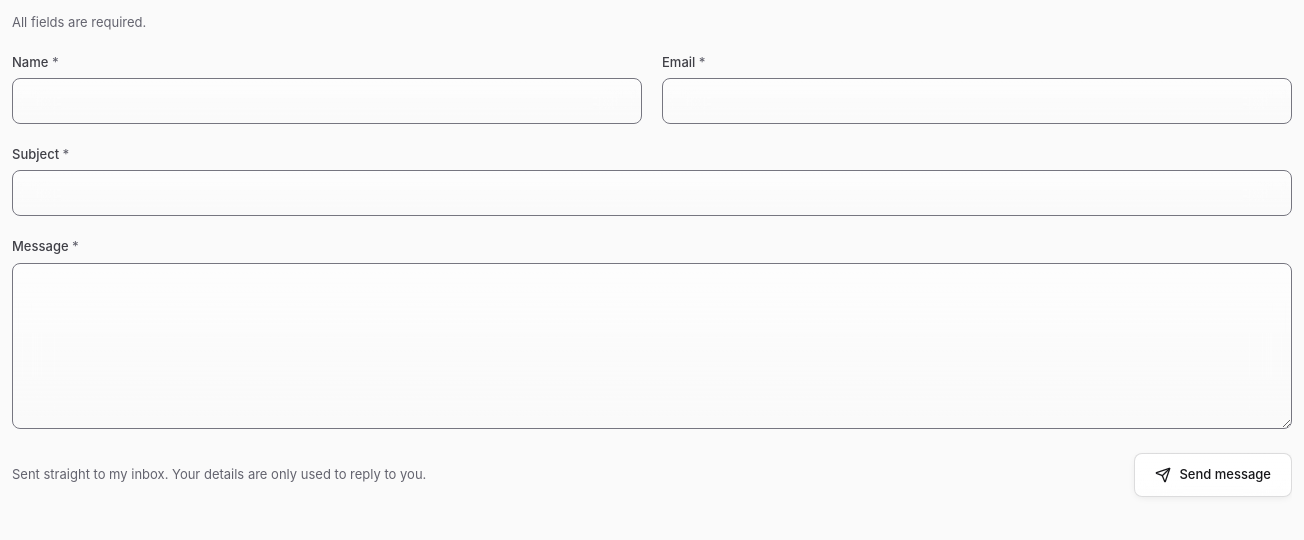
Test: ContactForm › validates email format on blur
Type "ada@" into the field labelled "Email *".
click(977, 101); type("ada@")  # box [662, 78, 1292, 124]
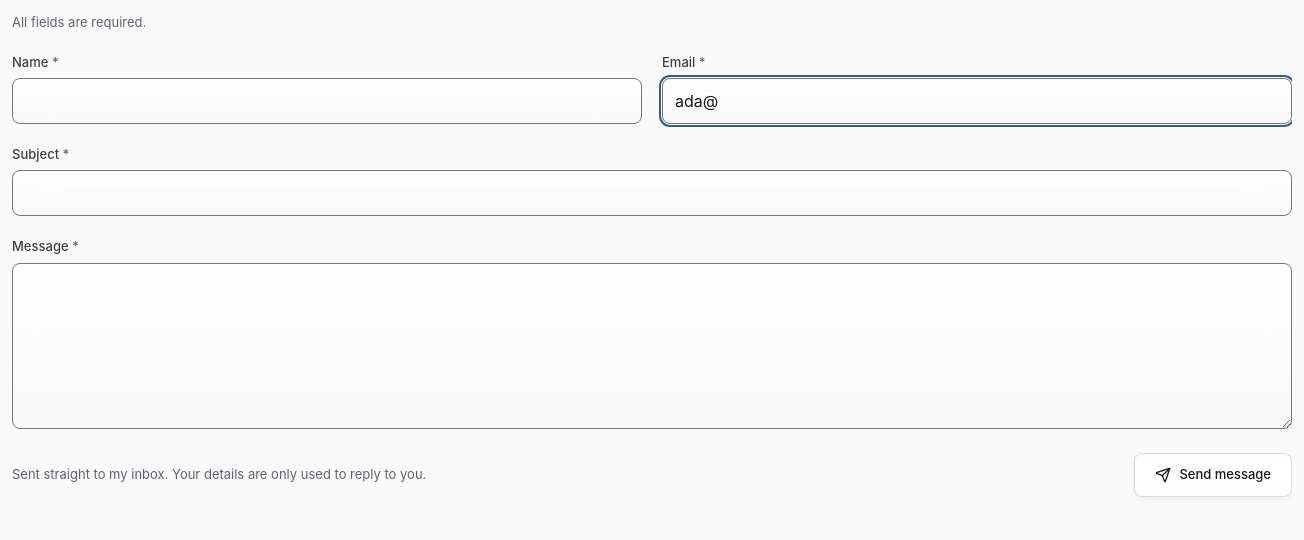
Press Tab
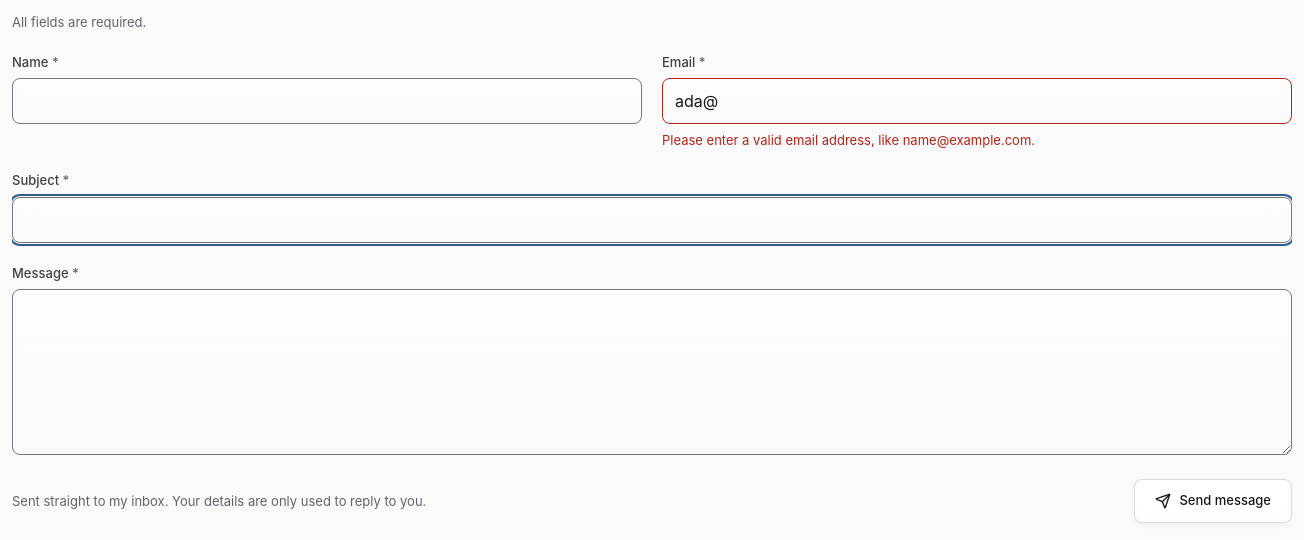
Result: the text "Please enter a valid email address, like name@example.com." is shown at [662, 132, 1035, 148]
